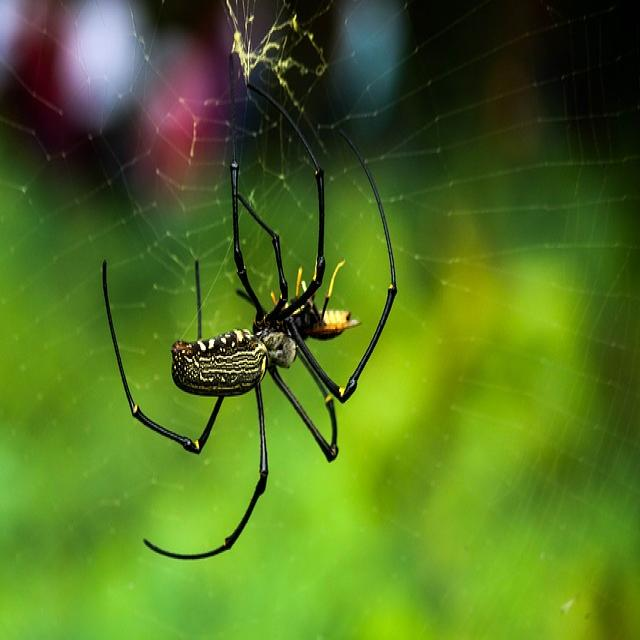spyder: (102, 56, 396, 560)
